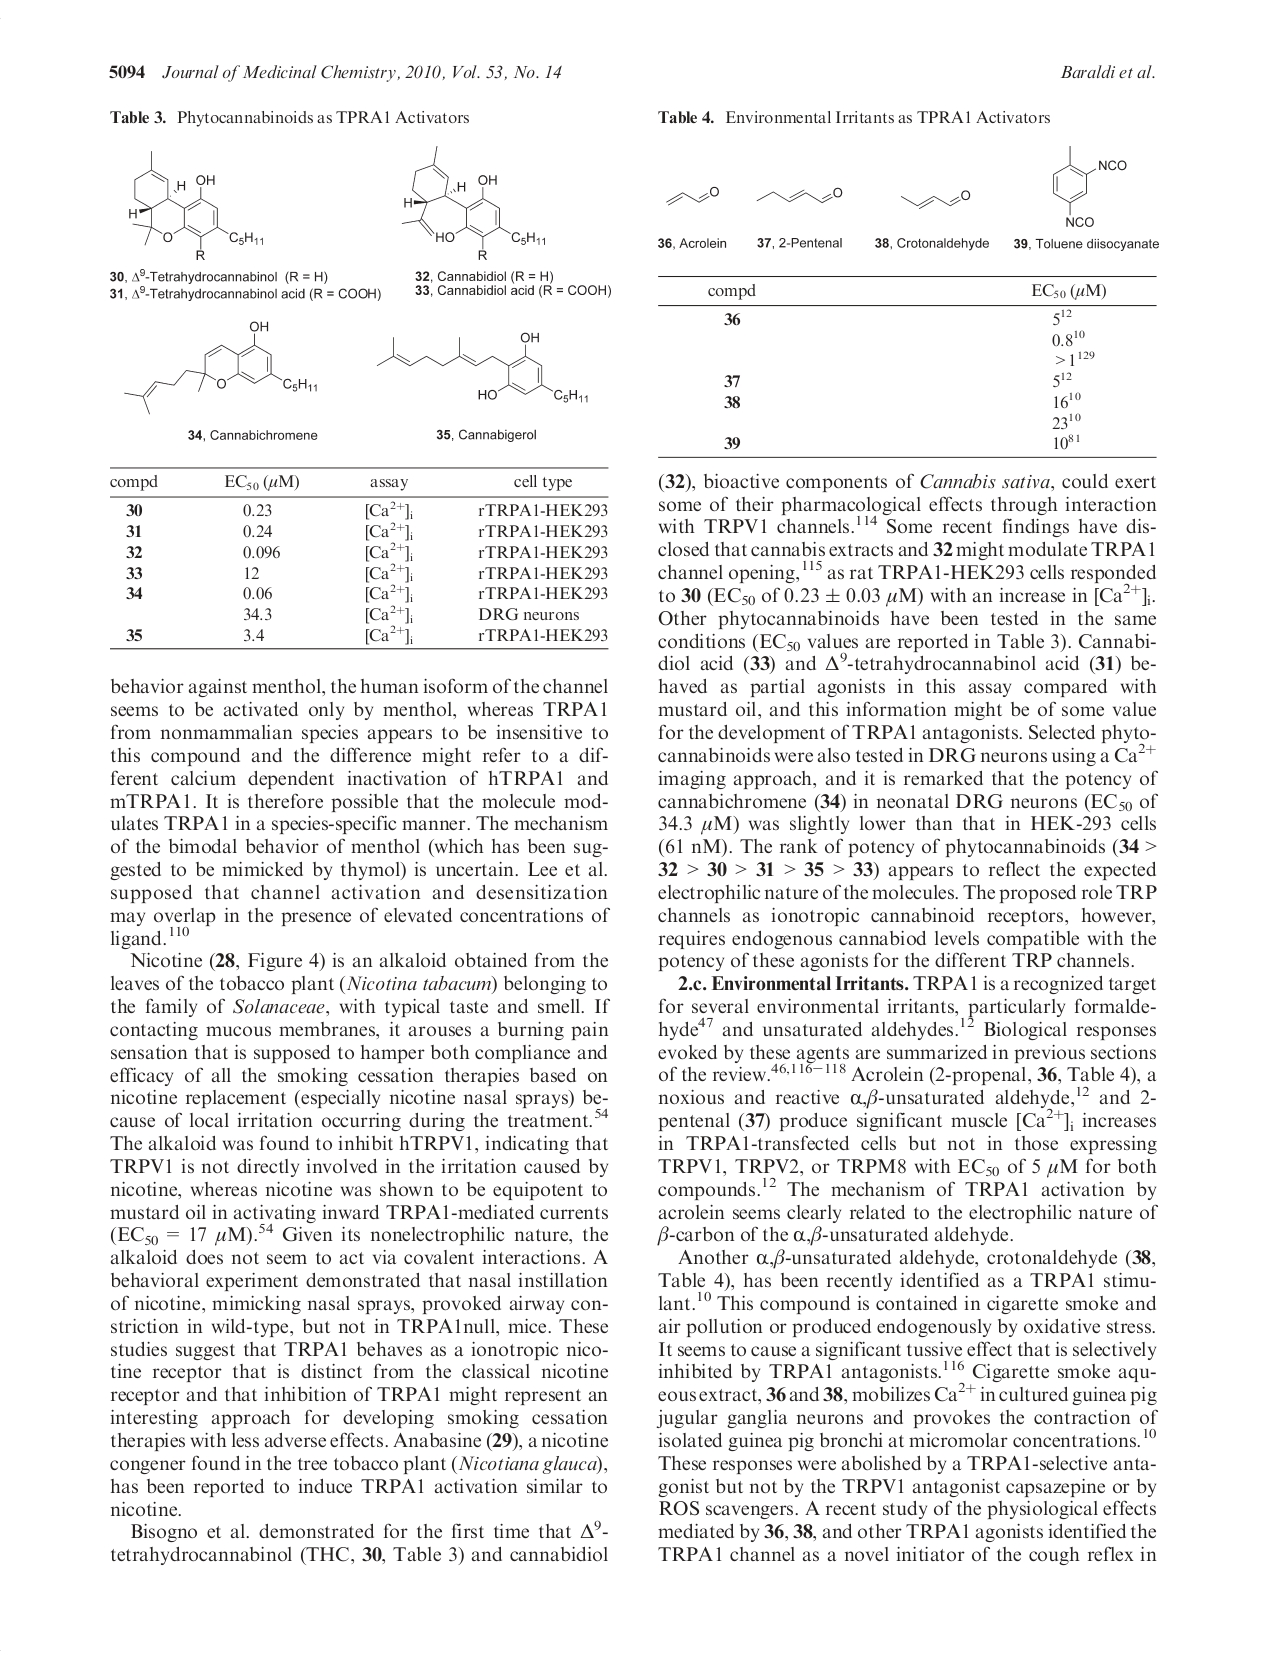exist_molecular: (120, 318, 324, 422), (392, 140, 551, 265), (120, 144, 271, 267), (372, 328, 592, 407), (1044, 137, 1138, 231), (753, 172, 852, 211), (657, 172, 731, 215), (894, 177, 977, 215)
